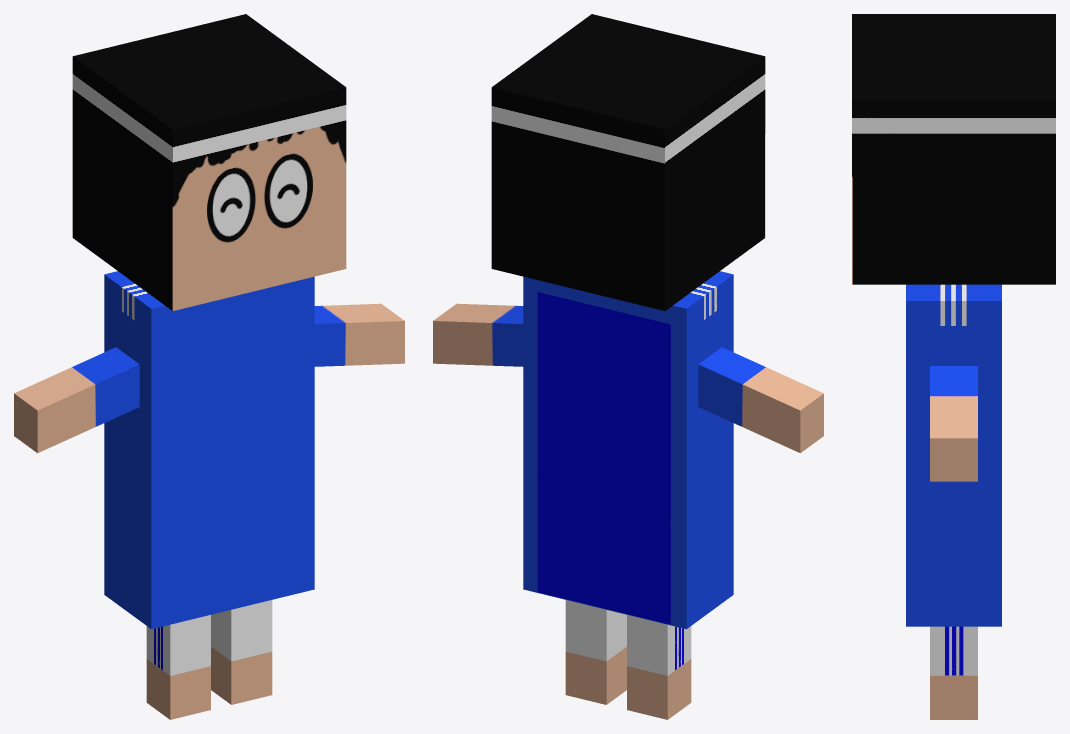
File: audience_blue_3.fbx
3 views of the same model, side by side, from view 1: azimuth 30°, elevation 25°; view 2: azimuth 150°, elevation 25°; view 3: azimuth 270°, elevation 25° (orthographic).
Parts seen in each view (by area): view 1: body, head; view 2: body, head; view 3: head, body.
Boxes of the visible parts, <box> form: body: <box>14,271,404,719</box>; head: <box>72,14,346,310</box>; body: <box>433,271,823,719</box>; head: <box>491,14,765,310</box>; head: <box>852,14,1055,284</box>; body: <box>906,284,1001,719</box>.
Bounding box in the file's own units: 3.6 × 5.87 × 1.7.
2 materials, 2 textured.
